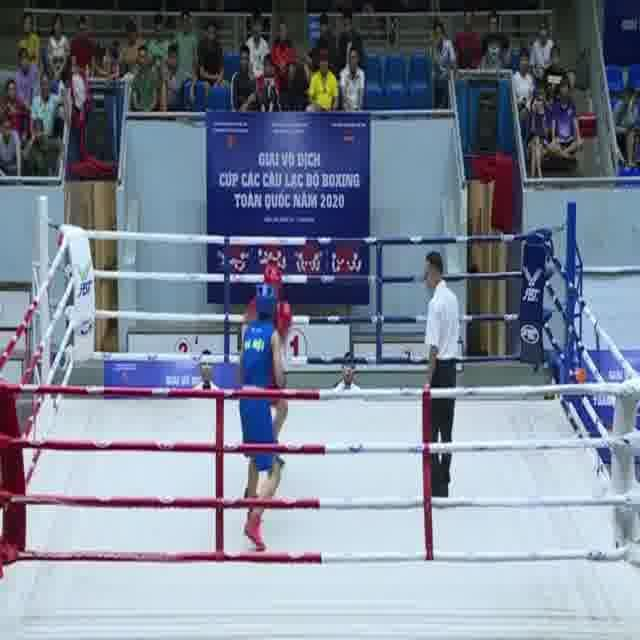blue-player: (237, 278, 288, 553)
red-player: (242, 259, 292, 510)
referee: (414, 248, 460, 501)
